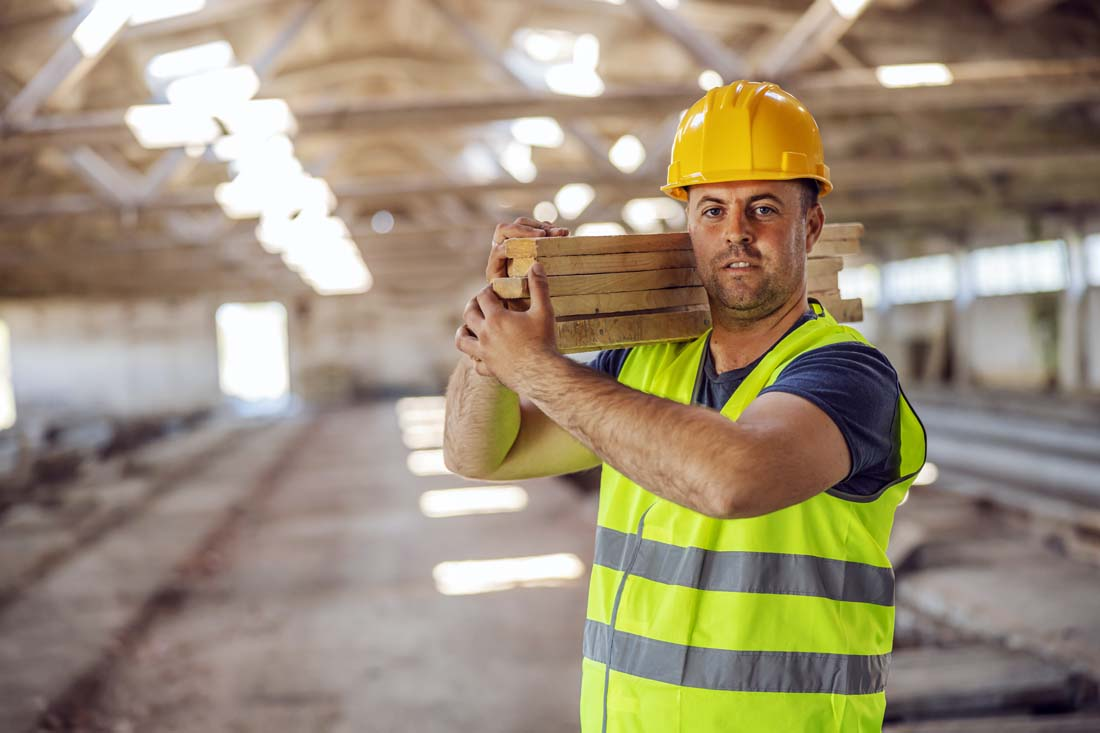hat: (657, 76, 836, 204)
jacket: (574, 295, 928, 733)
